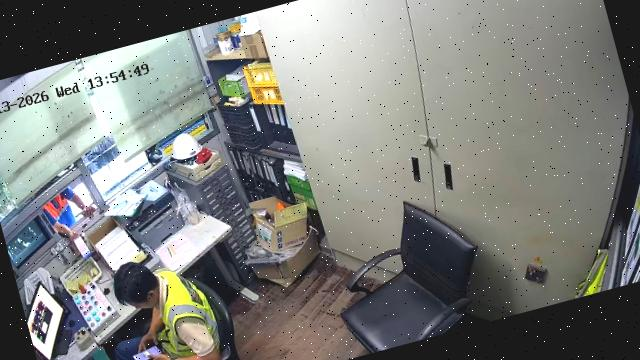Head: (115, 262, 160, 308)
People: (115, 271, 216, 359)
Phone: (134, 347, 161, 359)
